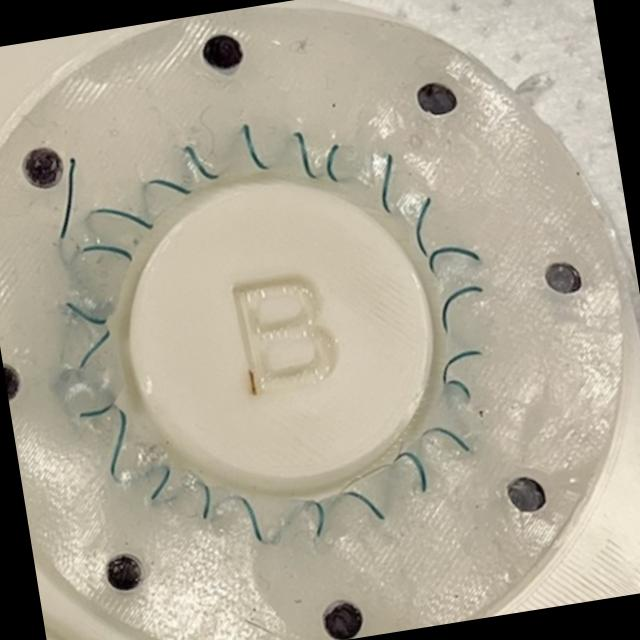suture: (442, 287, 483, 333), (428, 247, 481, 274), (394, 452, 428, 494), (58, 157, 75, 240), (85, 208, 153, 228), (287, 131, 315, 178), (243, 123, 270, 170), (443, 351, 480, 384), (423, 427, 471, 452), (111, 408, 127, 482), (344, 492, 385, 520), (80, 330, 110, 368), (185, 146, 218, 179), (239, 497, 263, 542), (66, 303, 107, 325), (416, 197, 431, 257), (82, 246, 132, 262), (151, 466, 171, 501), (78, 401, 116, 419), (148, 179, 192, 194), (382, 153, 393, 213), (325, 144, 340, 182), (312, 502, 324, 543), (447, 379, 470, 400), (202, 485, 211, 519)
